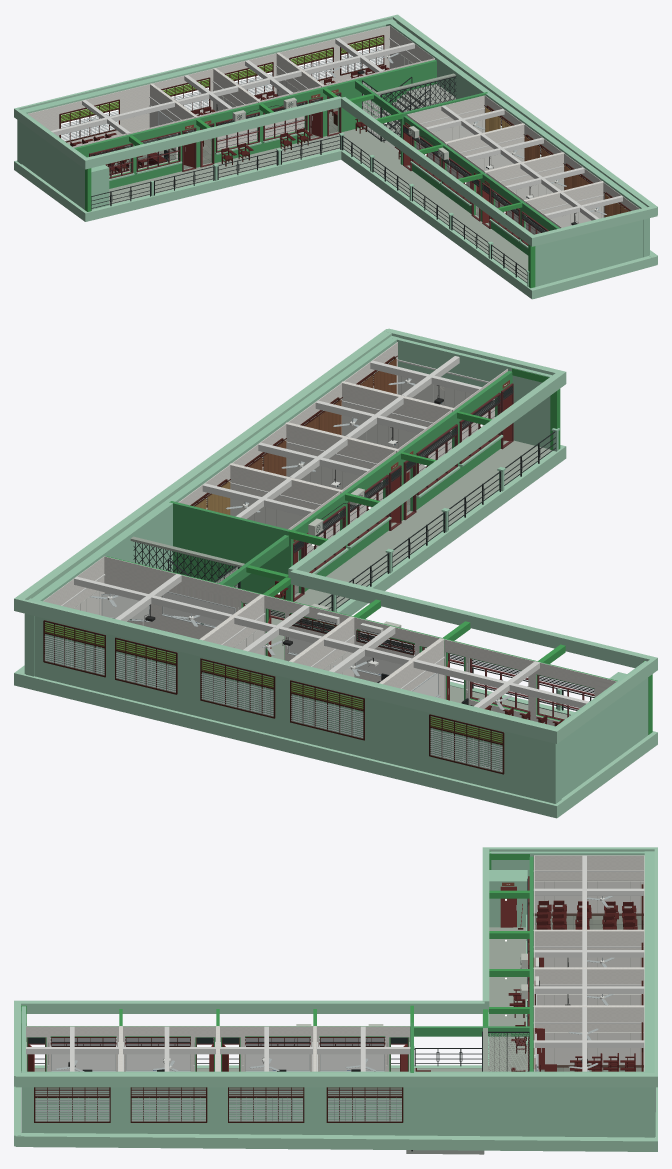
The model's file is gedung_perkuliahan_indoor.glb.
3 renders of one model, top to bottom at view 1: azimuth 30°, elevation 25°; view 2: azimuth 150°, elevation 25°; view 3: azimuth 270°, elevation 25°, orthographic. The views are drawn at different scales.
Visible parts, largest first — view 1: A_L3_Fascia_balkon.001, B_L3_Fascia_balkon.001, B_L2_Fascia_balkon.001, A_L2_Fascia_balkon.001, Pelat_2_B_lubang_tangga_0.001, Pelat_2_Sayap_A.001, B_L2_Dinding_ujung_ruang.001, B_L2_Dinding_luar_belakang.001, A_L2_Ruang4_Dinding.002, KERJA_R08_Cat_dinding_belakang, A_L2_Dinding_ujung_ruang.001, A_L2_Dinding_luar_belakang.001 (+44 smaller); view 2: A_L2_Dinding_luar_belakang.001, A_L3_Fascia_balkon.001, A_L2_Fascia_balkon.001, Pelat_2_B_lubang_tangga_0.001, B_L2_Dinding_luar_belakang.001, B_L2_Dinding_sisi_tangga.001, B_L3_Fascia_balkon.001, KERJA_R05_Finishing_putih_dinding_depan, A_L2_Dinding_ujung_ruang.001, B_L2_Fascia_balkon.001, KERJA_R06_Jendela_jalusi_belakang.005, KERJA_R07_Jendela_jalusi_belakang.002 (+37 smaller); view 3: B_L2_Dinding_luar_belakang.001, A_L3_Fascia_balkon.001, A_L2_Fascia_balkon.001, B_L3_Fascia_balkon.001, Pelat_2_Sayap_A.001, A_L2_Dinding_luar_belakang.001, KERJA_R08_Cat_sisi_kiri, KERJA_R05_Cat_sisi_kiri, KERJA_R01_Jendela_jalusi_belakang.002, KERJA_R01_Jendela_jalusi_belakang.004, KERJA_R01_Jendela_jalusi_belakang.003, KERJA_R01_Jendela_jalusi_belakang.001 (+36 smaller).
Part boxes in pixels (bbox=[...]): A_L3_Fascia_balkon.001: bbox=[14, 14, 657, 214]; B_L3_Fascia_balkon.001: bbox=[341, 97, 657, 246]; B_L2_Fascia_balkon.001: bbox=[341, 149, 657, 299]; A_L2_Fascia_balkon.001: bbox=[14, 148, 657, 263]; Pelat_2_B_lubang_tangga_0.001: bbox=[375, 164, 528, 282]; Pelat_2_Sayap_A.001: bbox=[109, 136, 339, 204]; B_L2_Dinding_ujung_ruang.001: bbox=[561, 207, 646, 279]; B_L2_Dinding_luar_belakang.001: bbox=[386, 19, 649, 256]; A_L2_Ruang4_Dinding.002: bbox=[323, 60, 436, 136]; KERJA_R08_Cat_dinding_belakang: bbox=[28, 84, 149, 145]; A_L2_Dinding_ujung_ruang.001: bbox=[21, 110, 71, 198]; A_L2_Dinding_luar_belakang.001: bbox=[17, 19, 396, 164]; A_L2_Dinding_luar_belakang.001: bbox=[24, 598, 561, 803]; A_L3_Fascia_balkon.001: bbox=[14, 329, 657, 743]; A_L2_Fascia_balkon.001: bbox=[14, 665, 657, 818]; Pelat_2_B_lubang_tangga_0.001: bbox=[294, 440, 551, 610]; B_L2_Dinding_luar_belakang.001: bbox=[25, 336, 398, 676]; B_L2_Dinding_sisi_tangga.001: bbox=[169, 501, 292, 601]; B_L3_Fascia_balkon.001: bbox=[288, 328, 566, 577]; KERJA_R05_Finishing_putih_dinding_depan: bbox=[104, 556, 260, 639]; A_L2_Dinding_ujung_ruang.001: bbox=[553, 678, 625, 798]; B_L2_Fascia_balkon.001: bbox=[311, 445, 566, 632]; KERJA_R06_Jendela_jalusi_belakang.005: bbox=[200, 658, 275, 718]; KERJA_R07_Jendela_jalusi_belakang.002: bbox=[429, 714, 504, 774]; B_L2_Dinding_luar_belakang.001: bbox=[21, 1071, 655, 1137]; A_L3_Fascia_balkon.001: bbox=[15, 847, 657, 1087]; A_L2_Fascia_balkon.001: bbox=[15, 1012, 657, 1151]; B_L3_Fascia_balkon.001: bbox=[14, 1000, 484, 1086]; Pelat_2_Sayap_A.001: bbox=[488, 927, 527, 1067]; A_L2_Dinding_luar_belakang.001: bbox=[644, 851, 654, 1137]; KERJA_R08_Cat_sisi_kiri: bbox=[533, 855, 643, 880]; KERJA_R05_Cat_sisi_kiri: bbox=[533, 1007, 644, 1032]; KERJA_R01_Jendela_jalusi_belakang.002: bbox=[130, 1087, 207, 1122]; KERJA_R01_Jendela_jalusi_belakang.004: bbox=[326, 1087, 403, 1122]; KERJA_R01_Jendela_jalusi_belakang.003: bbox=[228, 1087, 304, 1122]; KERJA_R01_Jendela_jalusi_belakang.001: bbox=[34, 1087, 110, 1122].
Bounding box in the file's own units: 26.33 × 5.37 × 31.17.
Materials: 53 (2 with a texture image).
